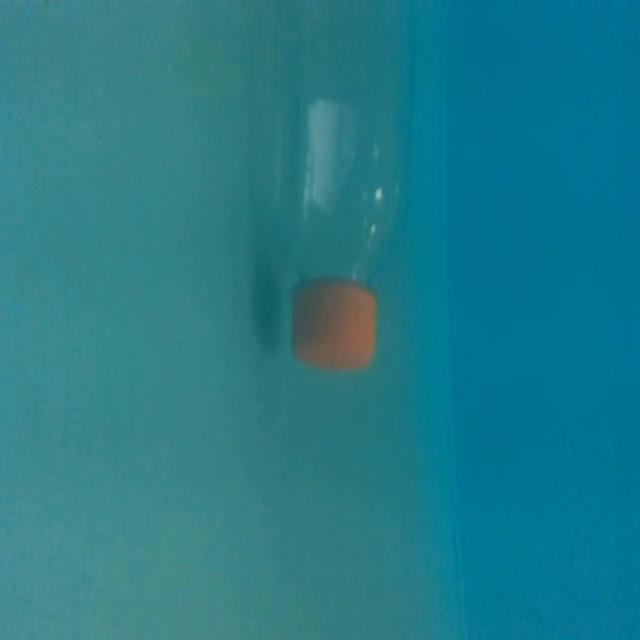plastic bottle: (267, 9, 424, 387)
